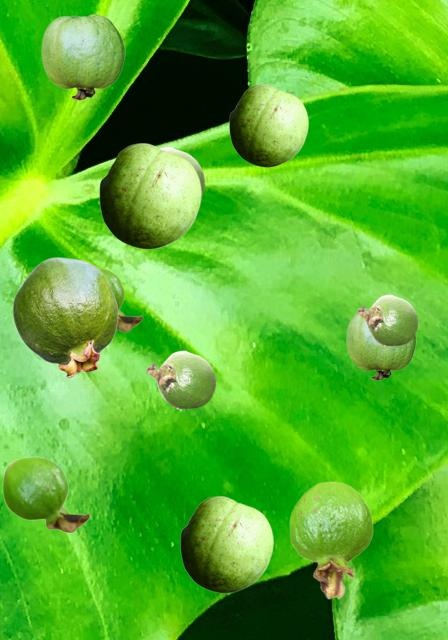guava: (12, 257, 117, 377), (99, 143, 200, 248), (289, 481, 372, 598), (180, 496, 272, 592), (41, 14, 124, 99), (2, 456, 89, 532), (229, 84, 307, 166), (346, 309, 415, 379), (146, 350, 215, 408), (357, 294, 417, 345), (99, 267, 142, 331), (160, 146, 204, 198)
